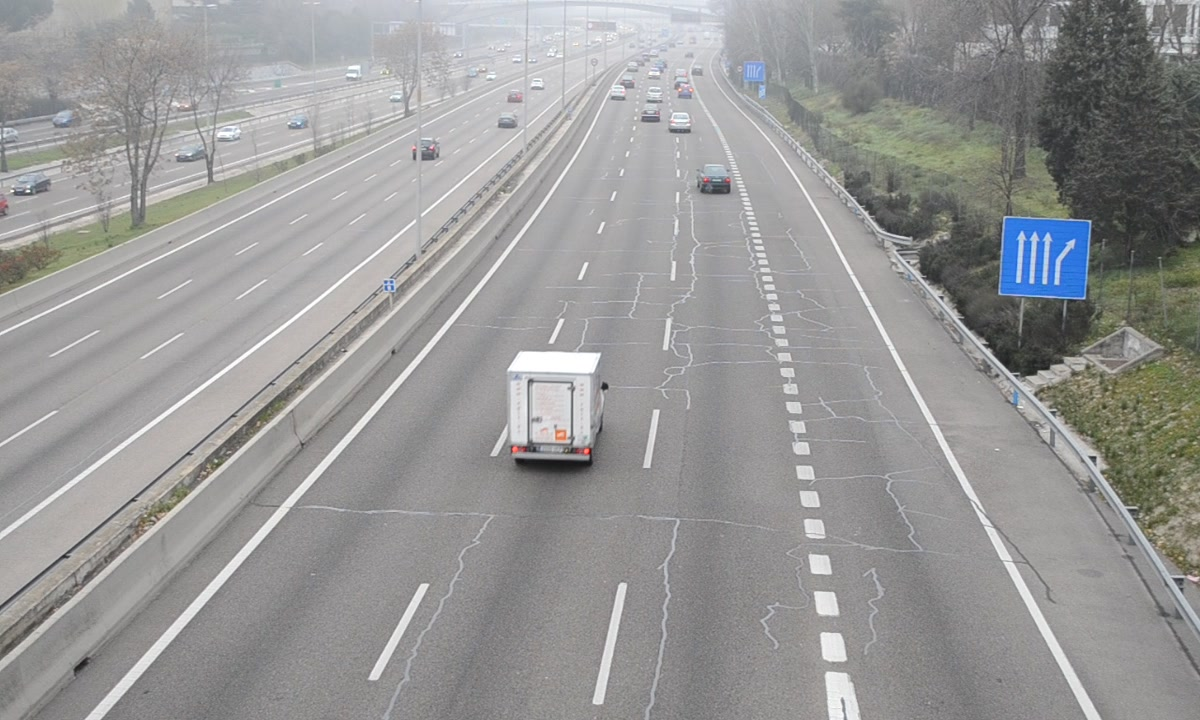car: (698, 162, 733, 193)
small-truck: (509, 353, 608, 465)
